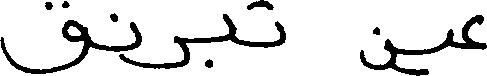X: (0, 0, 90, 75), (142, 31, 189, 73), (360, 22, 396, 75), (463, 10, 486, 54), (130, 17, 140, 71), (224, 9, 235, 47), (276, 16, 285, 50), (444, 24, 452, 52)
